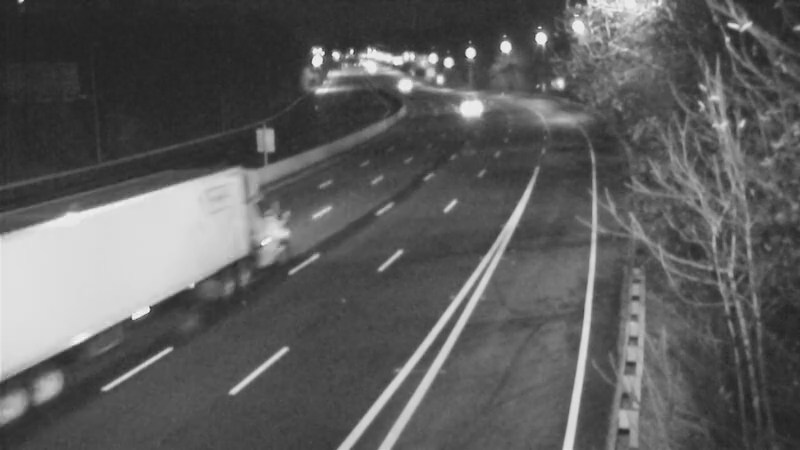vehicle: (103, 231, 183, 311), (375, 59, 425, 109), (441, 76, 491, 126)
